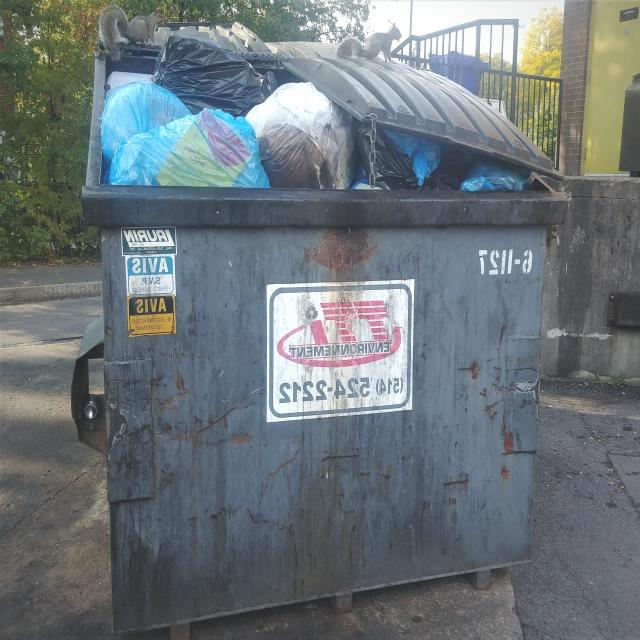garbage: (82, 21, 570, 632)
